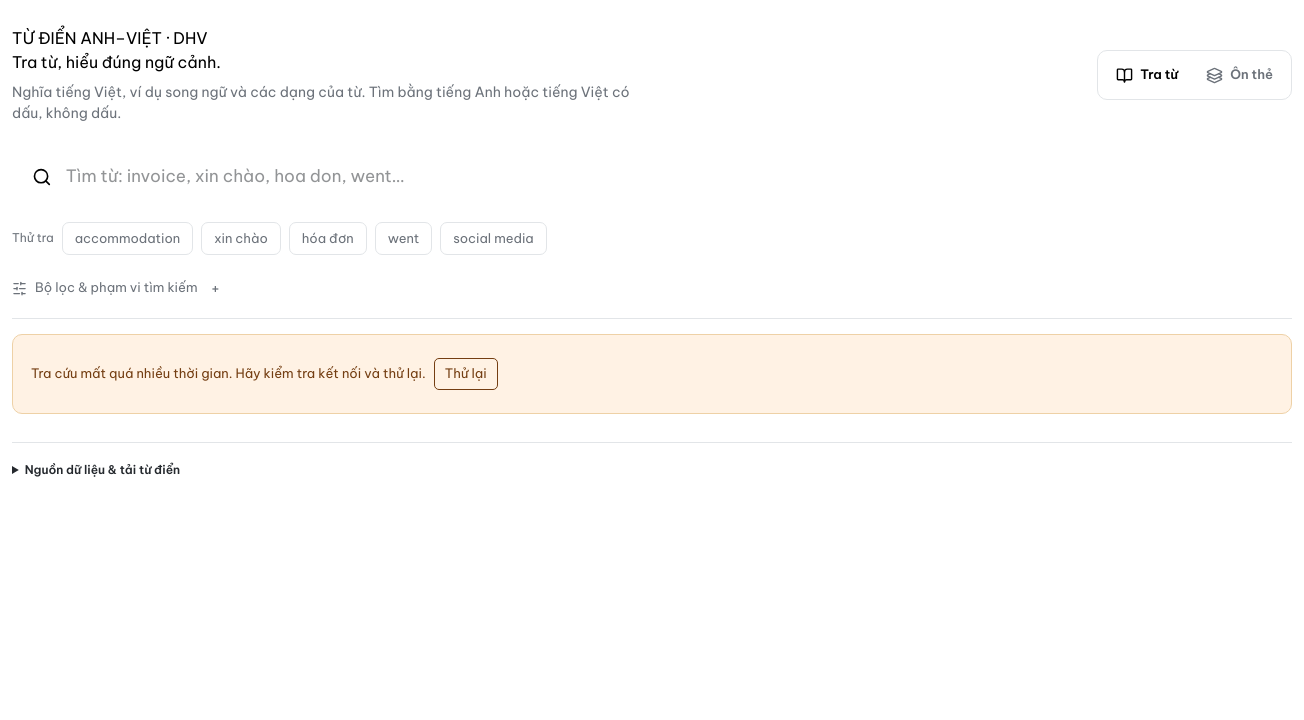
Test: times out a stuck lookup and ignores a late response after retry
The image size is (1304, 720).
Expected: the message shows "Tra cứu mất quá nhiều thời gian", [31, 365, 426, 381]
What coordinates should you click on to do the following:
click the button "Thử lại"
I would click on:
 (466, 374)
Its box is [434, 358, 498, 390].
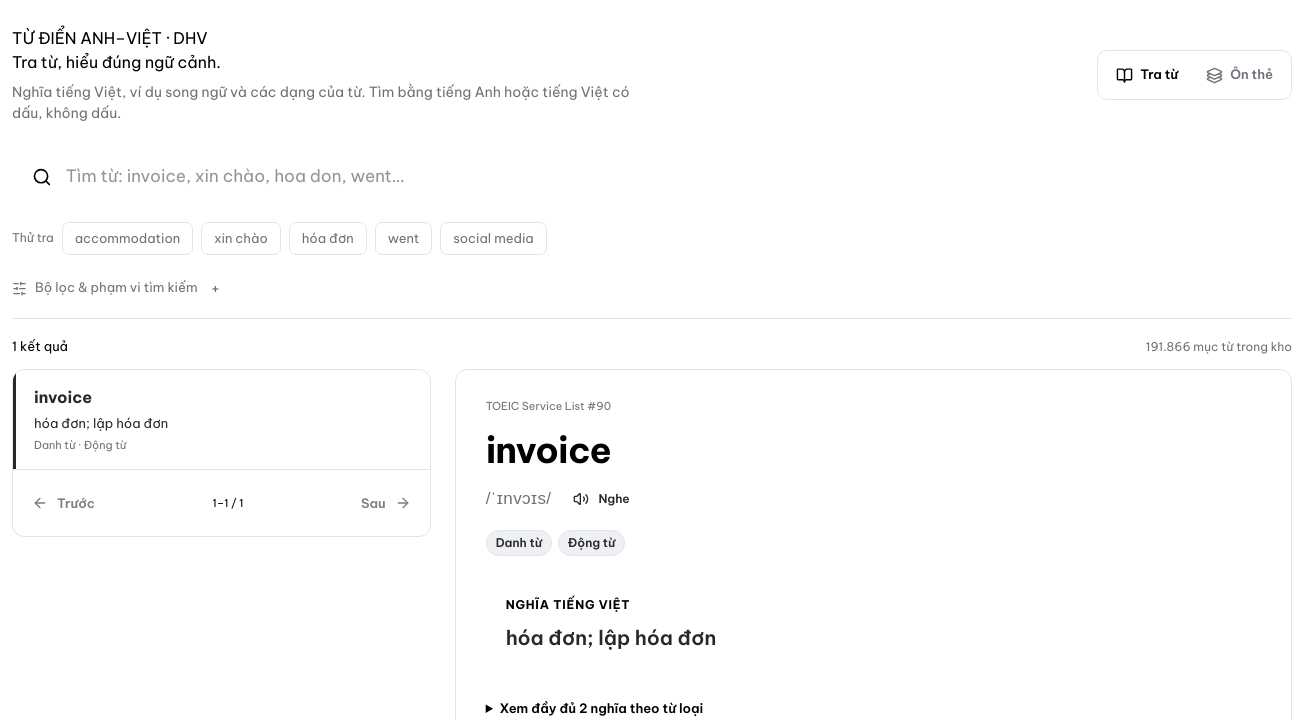
Now the heading "invoice" is shown, box [486, 427, 611, 473]
